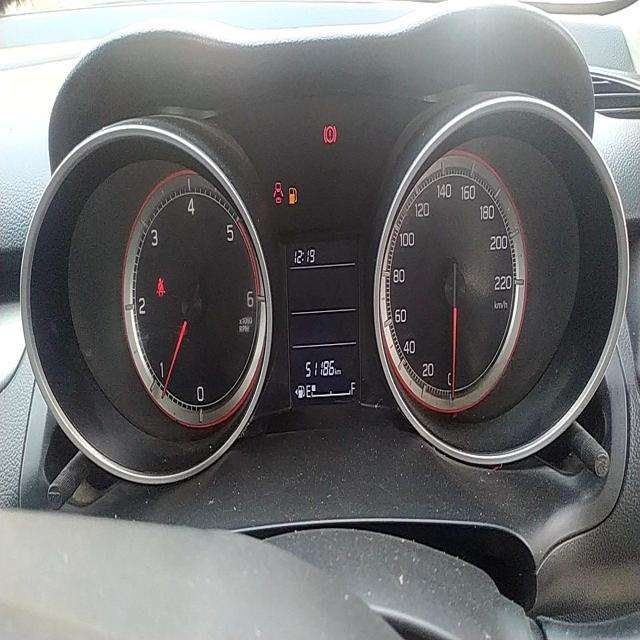odometer: (304, 360, 335, 379)
